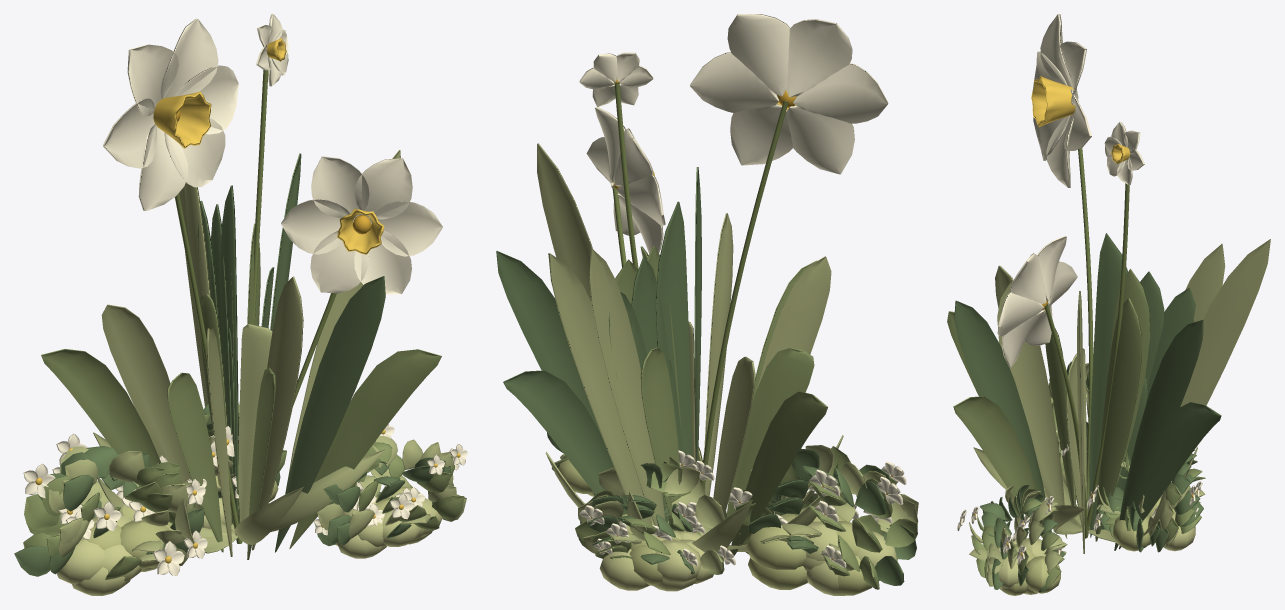
Rendered from garden3d_flowers_right.glb.
3 views of the same model, side by side, from view 1: azimuth 30°, elevation 25°; view 2: azimuth 150°, elevation 25°; view 3: azimuth 270°, elevation 25° (orthographic). The views are drawn at different scales.
Parts seen in each view (by area): view 1: Plants / curved grass blades (×3), Daffodil / sculpted petals, Shrub / individual folded leaves (×6), Shrub / moss volumes (×3), Daffodil / basal leaves, Shrub / daisies / sculpted petals (×2), Daffodil / hollow trumpet, Daffodil / flexible round stems, Shrub / top flowers / sculpted petals (×2); view 2: Plants / curved grass blades (×3), Daffodil / sculpted petals, Shrub / individual folded leaves (×6), Shrub / moss volumes (×5), Shrub / daisies / sculpted petals (×2), Daffodil / flexible round stems, Daffodil / basal leaves; view 3: Plants / curved grass blades (×3), Daffodil / sculpted petals, Shrub / individual folded leaves (×6), Daffodil / flexible round stems, Shrub / moss volumes (×4), Daffodil / basal leaves, Daffodil / hollow trumpet, Shrub / daisies / sculpted petals.
Part boxes in pixels (x1=…): Plants / curved grass blades (×3): x1=41, y1=150, x2=441, y2=559; Daffodil / sculpted petals: x1=103, y1=14, x2=442, y2=294; Shrub / individual folded leaves (×6): x1=14, y1=436, x2=466, y2=579; Shrub / moss volumes (×3): x1=56, y1=496, x2=442, y2=595; Daffodil / basal leaves: x1=93, y1=408, x2=385, y2=553; Shrub / daisies / sculpted petals (×2): x1=23, y1=424, x2=467, y2=575; Daffodil / hollow trumpet: x1=153, y1=38, x2=384, y2=254; Daffodil / flexible round stems: x1=174, y1=70, x2=336, y2=543; Shrub / top flowers / sculpted petals (×2): x1=58, y1=487, x2=425, y2=539; Plants / curved grass blades (×3): x1=496, y1=143, x2=831, y2=555; Daffodil / sculpted petals: x1=579, y1=14, x2=888, y2=253; Shrub / individual folded leaves (×6): x1=575, y1=445, x2=918, y2=589; Shrub / moss volumes (×5): x1=558, y1=459, x2=897, y2=595; Shrub / daisies / sculpted petals (×2): x1=579, y1=450, x2=906, y2=567; Daffodil / flexible round stems: x1=612, y1=82, x2=788, y2=489; Daffodil / basal leaves: x1=545, y1=435, x2=843, y2=555; Plants / curved grass blades (×3): x1=947, y1=233, x2=1270, y2=553; Daffodil / sculpted petals: x1=997, y1=14, x2=1144, y2=367; Shrub / individual folded leaves (×6): x1=969, y1=449, x2=1205, y2=592; Daffodil / flexible round stems: x1=1044, y1=148, x2=1129, y2=538; Shrub / moss volumes (×4): x1=998, y1=497, x2=1195, y2=595; Daffodil / basal leaves: x1=973, y1=386, x2=1197, y2=542; Daffodil / hollow trumpet: x1=1031, y1=76, x2=1130, y2=309; Shrub / daisies / sculpted petals: x1=957, y1=496, x2=1061, y2=564.
Bounding box in the file's own units: 6.19 × 7.96 × 4.91.
